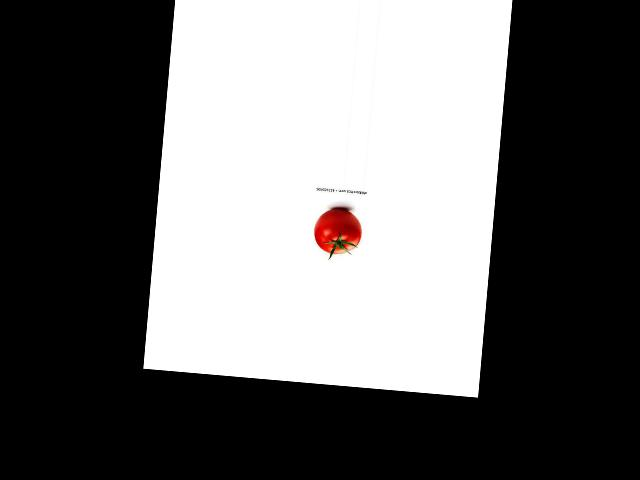tomato: (312, 206, 362, 256)
